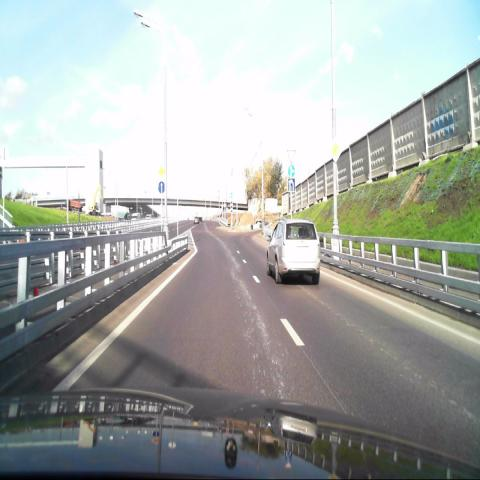4_1_1: (158, 180, 166, 194)
4_1_4: (288, 164, 295, 178)
5_15_5: (288, 177, 296, 193)
